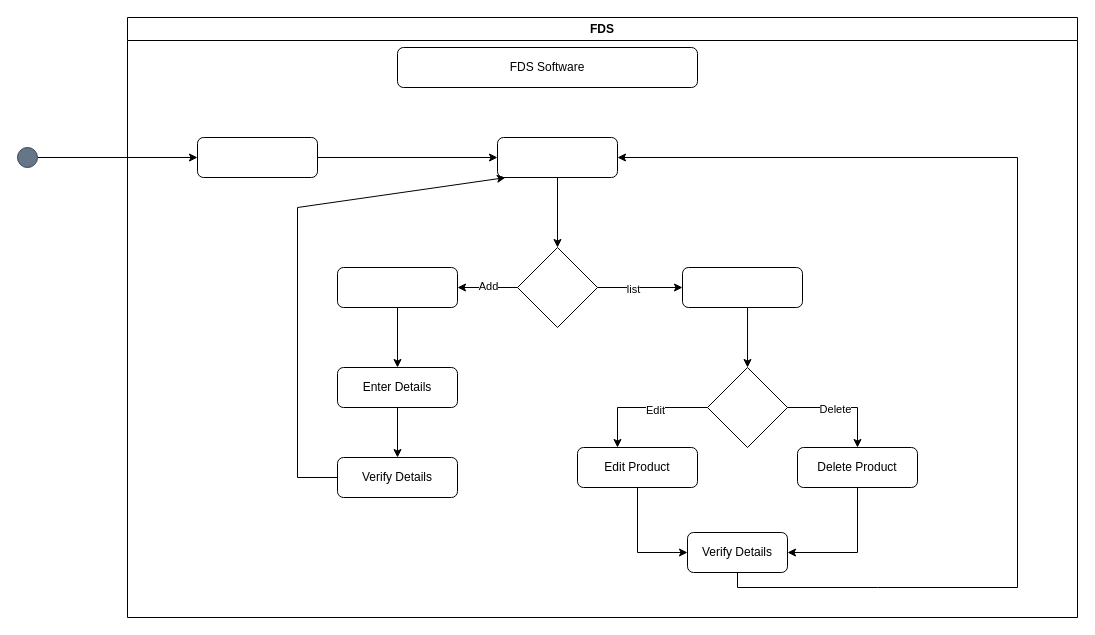
Image size: 1095x635. Some labels were removed from this diagram. Here are the shapes that lost their labels. From the top down, the centre of each, then its label:
At point 257,157: "Loin".
At point 557,157: "View Product".
At point 397,287: "add Product".
At point 742,287: "List Product".
